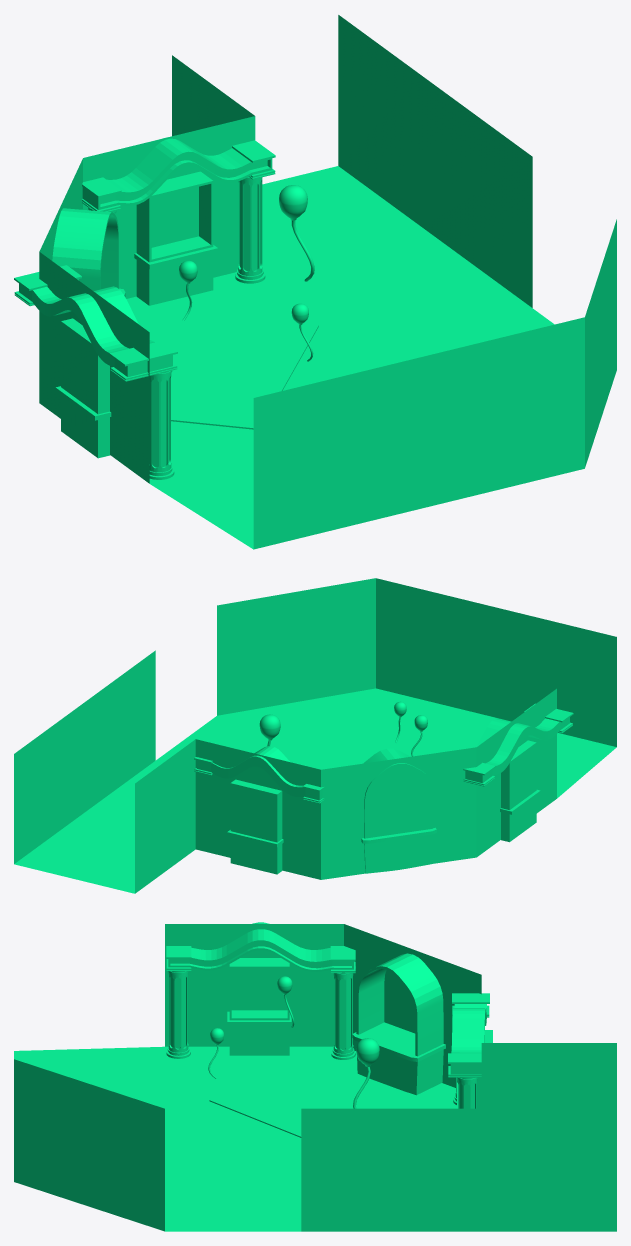
File: Stanza1.fbx
3 views of the same model, one above another, from view 1: azimuth 30°, elevation 25°; view 2: azimuth 150°, elevation 25°; view 3: azimuth 270°, elevation 25° (orthographic). The views are drawn at different scales.
Parts seen in each view (by area): view 1: polySurface45, Tappeto, Altare2, pCube6, pCube5, Altare1, AltareFiore, colonnacolonnaassets_stanza_reattore, colonna:colonnacolonnaassets_stanza_reattore, pCylinder10; view 2: polySurface45, AltareFiore, Altare2, Altare1, pCube5, pCube6, pCylinder10; view 3: polySurface45, AltareFiore, Altare1, Tappeto, pCube5, pCube6, colonnacolonnaassets_stanza_reattore (×2), colonna:colonnacolonnaassets_stanza_reattore, pCylinder10.
Part boxes in pixels (bbox=[...]): polySurface45: bbox=[39, 15, 616, 549]; Tappeto: bbox=[169, 312, 318, 429]; Altare2: bbox=[134, 171, 217, 305]; pCube6: bbox=[82, 137, 275, 211]; pCube5: bbox=[14, 265, 177, 381]; Altare1: bbox=[55, 318, 111, 458]; AltareFiore: bbox=[52, 208, 125, 296]; colonnacolonnaassets_stanza_reattore: bbox=[238, 177, 262, 275]; colonna:colonnacolonnaassets_stanza_reattore: bbox=[149, 373, 171, 472]; pCylinder10: bbox=[279, 185, 307, 220]; polySurface45: bbox=[14, 578, 616, 893]; AltareFiore: bbox=[361, 748, 436, 873]; Altare2: bbox=[227, 779, 283, 874]; Altare1: bbox=[500, 740, 540, 842]; pCube5: bbox=[463, 703, 573, 786]; pCube6: bbox=[194, 746, 324, 803]; pCylinder10: bbox=[259, 714, 280, 740]; polySurface45: bbox=[14, 924, 616, 1231]; AltareFiore: bbox=[352, 953, 445, 1095]; Altare1: bbox=[227, 958, 291, 1055]; Tappeto: bbox=[209, 1067, 387, 1137]; pCube5: bbox=[166, 922, 355, 973]; pCube6: bbox=[448, 993, 489, 1077]; colonnacolonnaassets_stanza_reattore (×2): bbox=[333, 973, 477, 1108]; colonna:colonnacolonnaassets_stanza_reattore: bbox=[168, 972, 188, 1052]; pCylinder10: bbox=[356, 1038, 379, 1066].
Bounding box in the file's own units: 2.24 × 0.6644 × 2.94.
